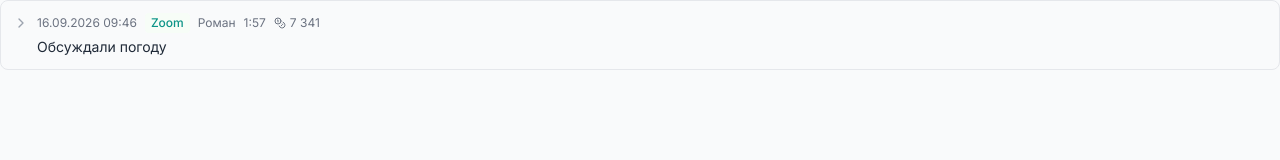
Test: CallSessionItem › клик по строке раскрывает расшифровку
Step 1. Click the button "16.09.2026 09:46 Zoom Роман 1:57 7 341 Обсуждали погоду" → click(166, 34), box left=13, top=13, right=320, bottom=55
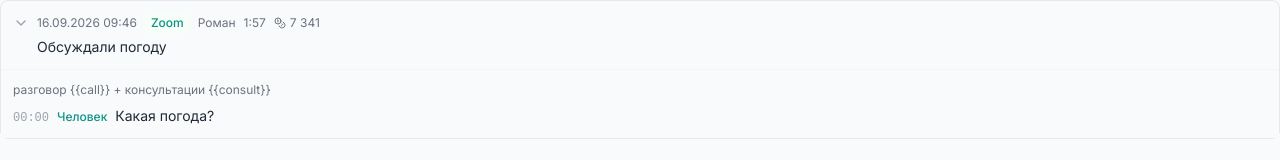
Expected: the text "Какая погода?" is shown, left=115, top=107, right=214, bottom=124
